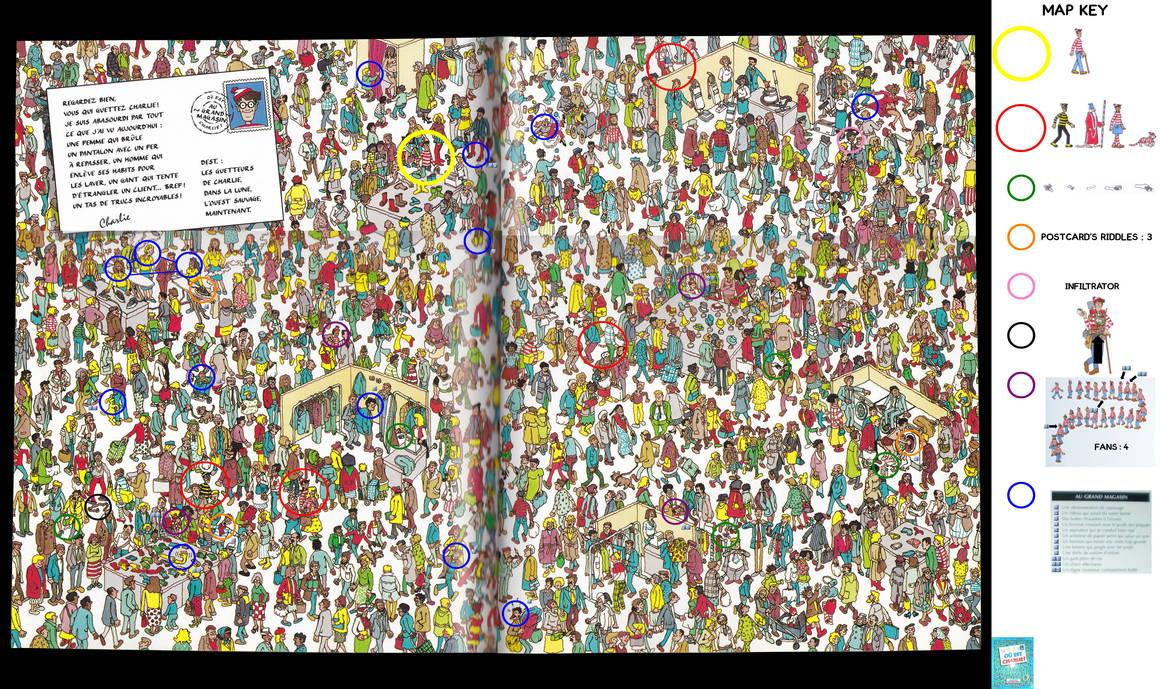waldo: (1070, 23, 1091, 77), (1110, 100, 1128, 150), (417, 140, 436, 170), (297, 479, 307, 506)
